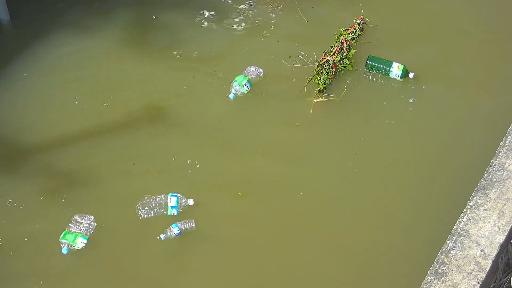plastic: (54, 211, 96, 261), (227, 65, 265, 99), (366, 56, 433, 75), (134, 190, 187, 213), (158, 219, 203, 238)
twig: (290, 8, 377, 115)
